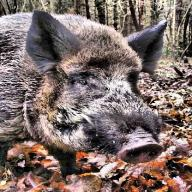boar: (0, 2, 191, 179)
